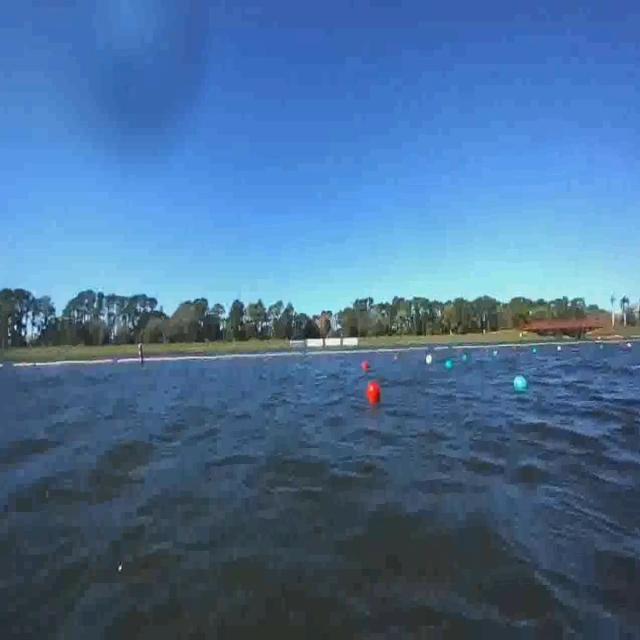green-buoy: (511, 370, 526, 392), (446, 358, 454, 370)
red-buoy: (366, 379, 379, 402), (362, 360, 368, 370)
yellow-buoy: (425, 351, 433, 371)
